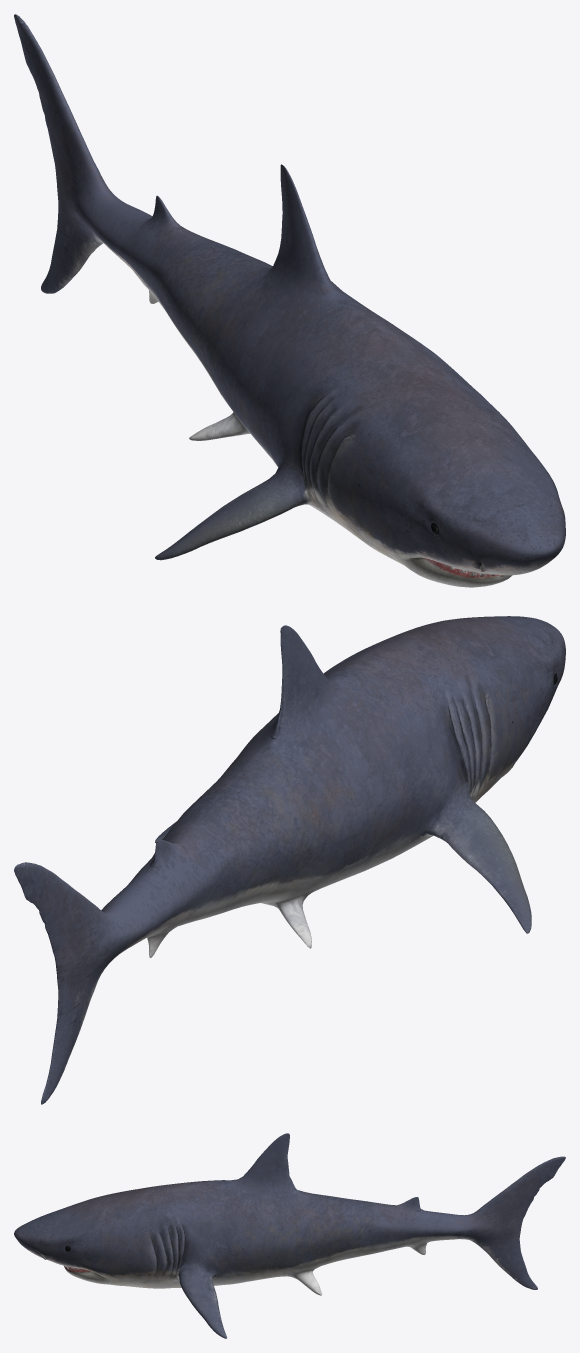
The model's file is tubarao-branco.glb.
3 views of the same model, one above another, from view 1: azimuth 30°, elevation 25°; view 2: azimuth 150°, elevation 25°; view 3: azimuth 270°, elevation 25° (orthographic). The views are drawn at different scales.
Visible parts, largest first — view 1: shark.1; view 2: shark.1; view 3: shark.1.
Boxes of the visible parts, box(x1,y1,x2,y2) form: shark.1: box(14, 14, 565, 587); shark.1: box(14, 616, 565, 1104); shark.1: box(14, 1133, 565, 1338).
Size of the model in its own units: 0.2246 by 0.1754 by 0.5545.
Materials: 1 (1 with a texture image).
